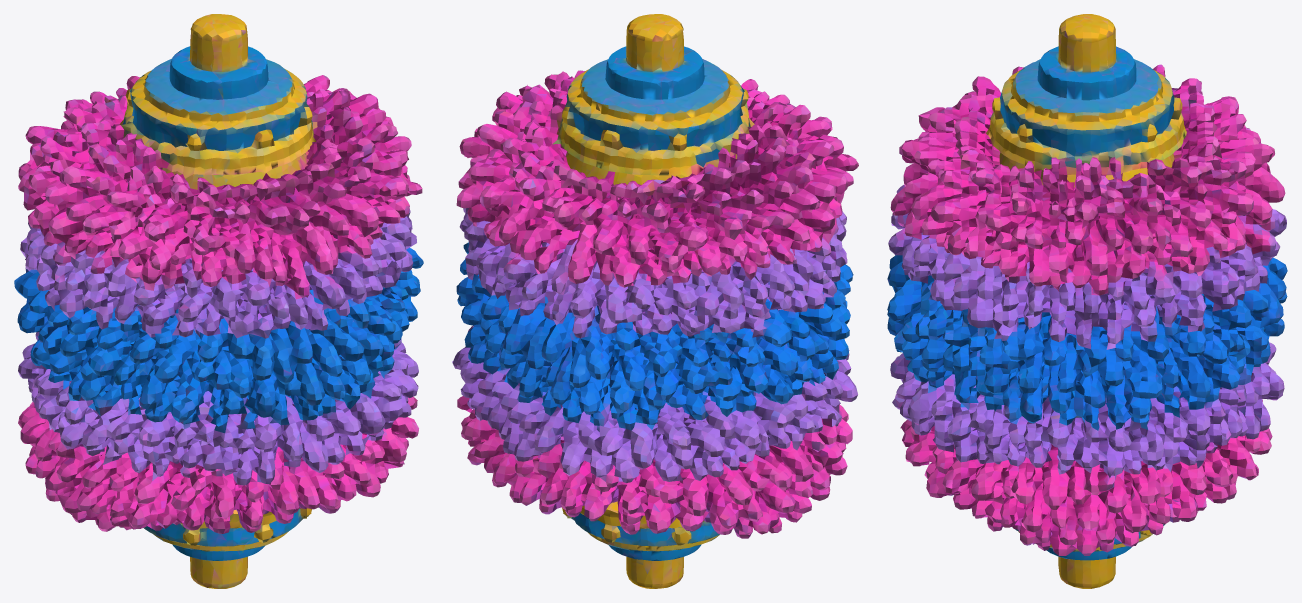
Rendered from BubbleWash_WashingRoller_Claudia_Textured.glb.
The picture shows the model from 3 angles, left to right: view 1: azimuth 30°, elevation 25°; view 2: azimuth 150°, elevation 25°; view 3: azimuth 270°, elevation 25°; orthographic projection.
Parts seen in each view (by area): view 1: WashingRoller_RotateAroundLocalY; view 2: WashingRoller_RotateAroundLocalY; view 3: WashingRoller_RotateAroundLocalY.
Boxes of the visible parts, left/top/right/bottom form: WashingRoller_RotateAroundLocalY: left=14, top=14, right=423, bottom=588; WashingRoller_RotateAroundLocalY: left=452, top=14, right=858, bottom=588; WashingRoller_RotateAroundLocalY: left=887, top=14, right=1287, bottom=588.
Size of the model in its own units: 1.24 by 1.9 by 1.23.
1 material, 1 textured.
